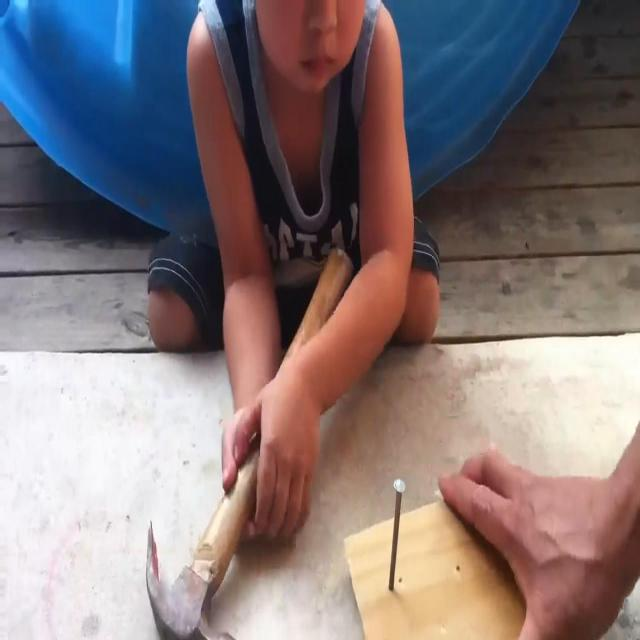hammer: (145, 246, 355, 640)
